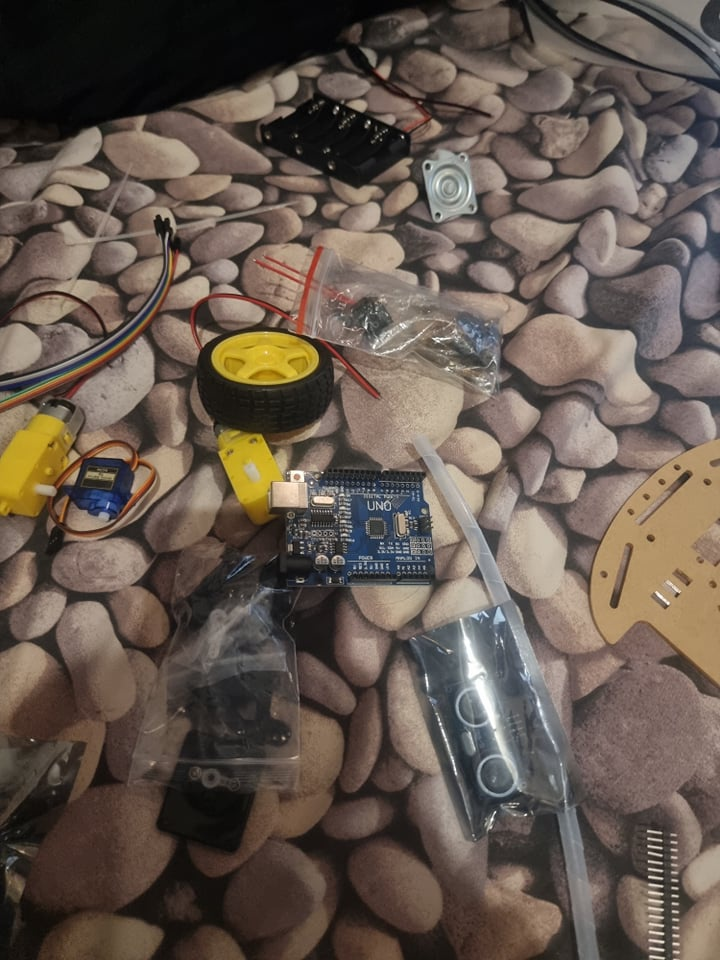BATTERY BOX: (260, 91, 411, 186)
SENSOR: (454, 676, 520, 808)
UNO R3: (267, 459, 439, 590)
